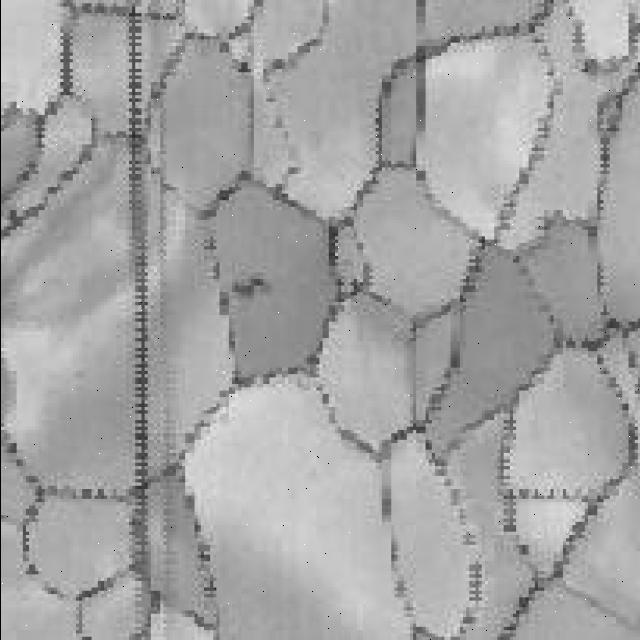good_void: (231, 277, 271, 305)
